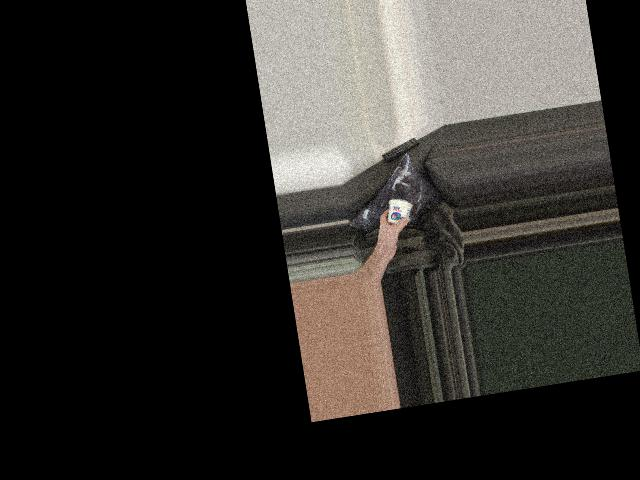cotage: (380, 192, 417, 232)
